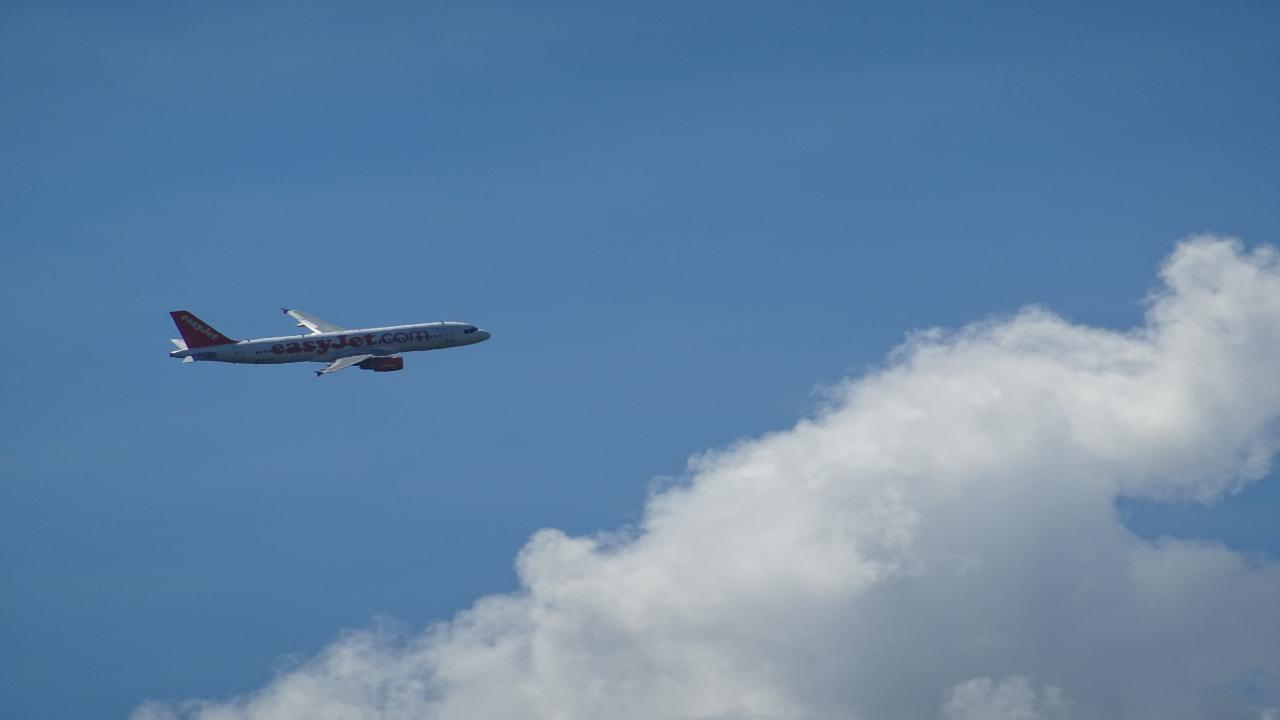Airplane: (157, 297, 508, 387)
